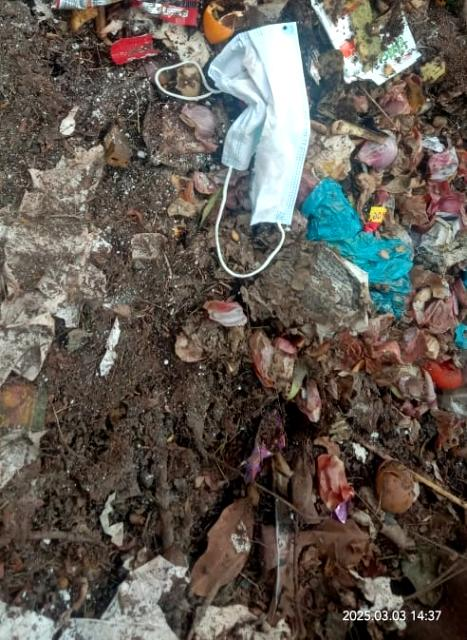mask: (191, 7, 351, 261)
